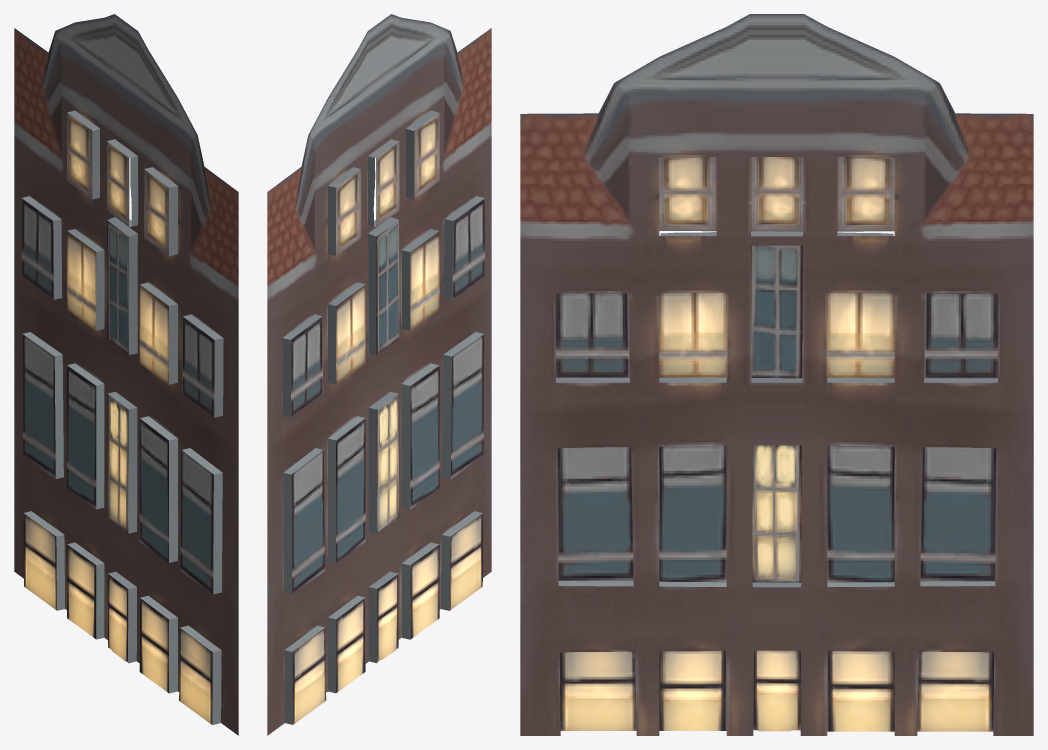
Rendered from mesh_Exterior_House1Full.fbx.
3 renders of one model, left to right at view 1: azimuth 30°, elevation 25°; view 2: azimuth 150°, elevation 25°; view 3: azimuth 270°, elevation 25°, orthographic. The views are drawn at different scales.
Visible parts, largest first — view 1: House1.001; view 2: House1.001; view 3: House1.001.
Part boxes in pixels (x1,y1,x2,y2): House1.001: (14,14,238,735); House1.001: (267,14,491,735); House1.001: (520,14,1033,735).
Bounding box in the file's own units: 6.86 × 474 × 306.
